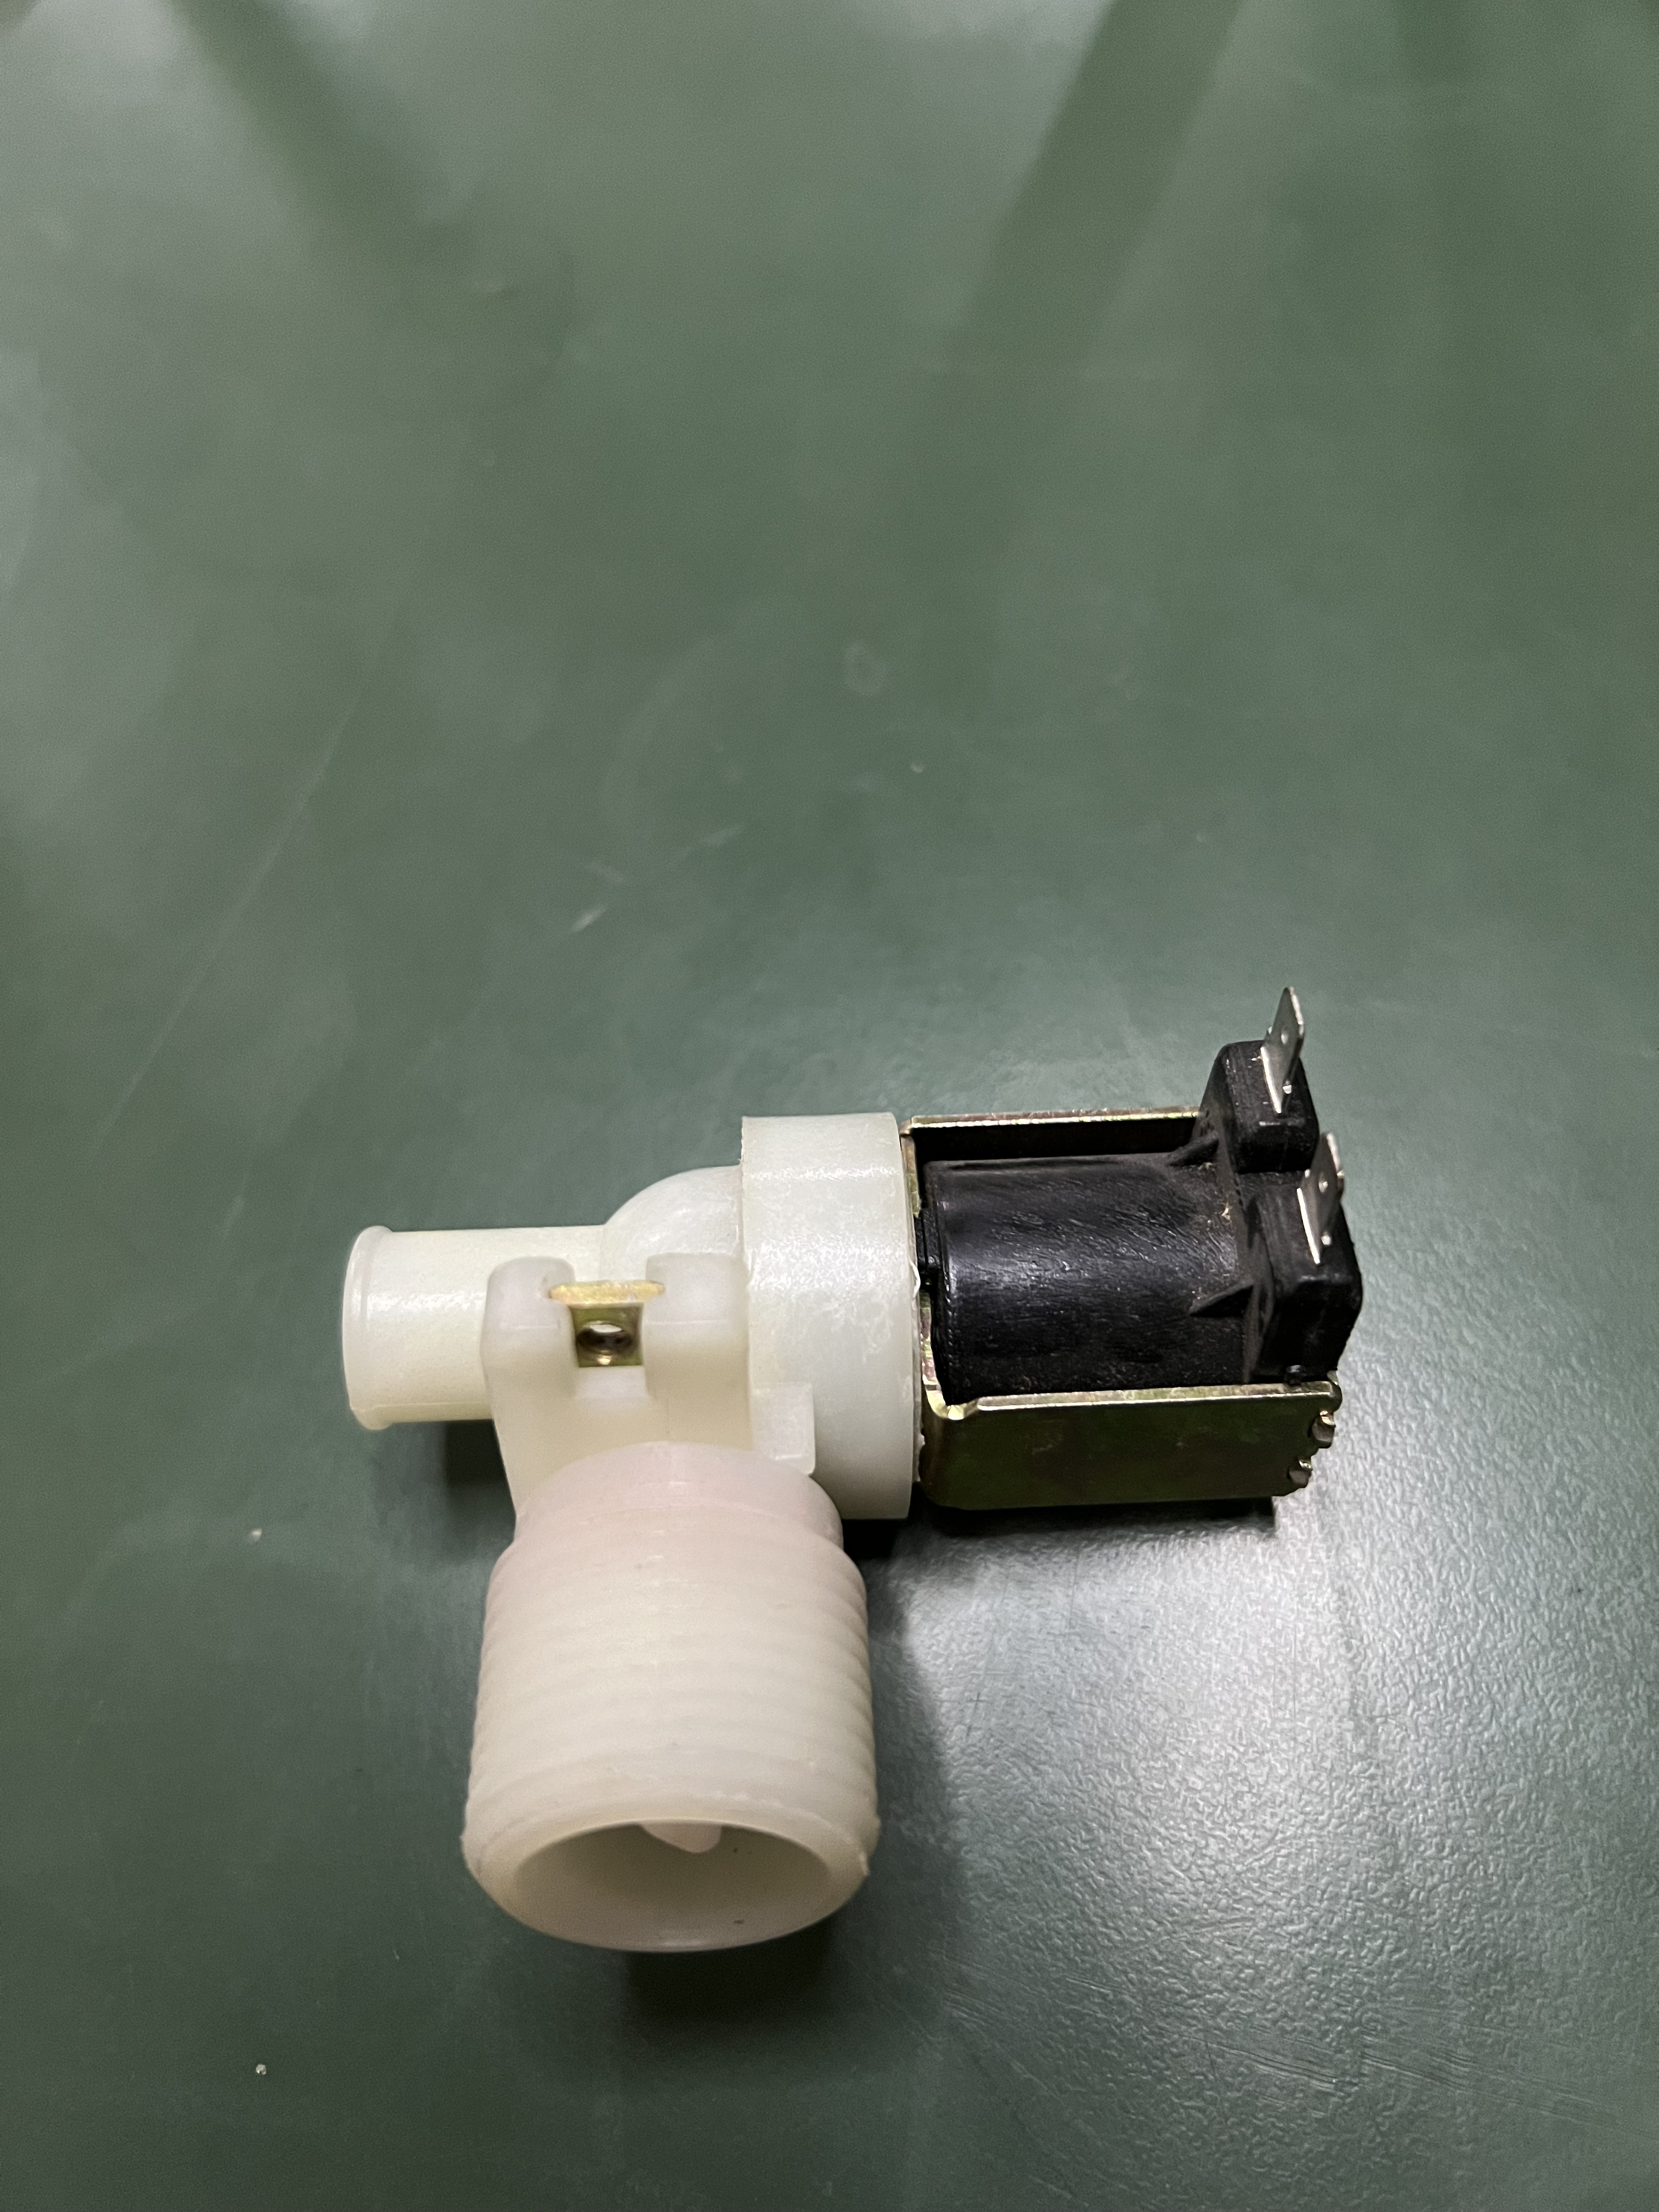godrej_inlet_valves: (261, 953, 1392, 1968)
